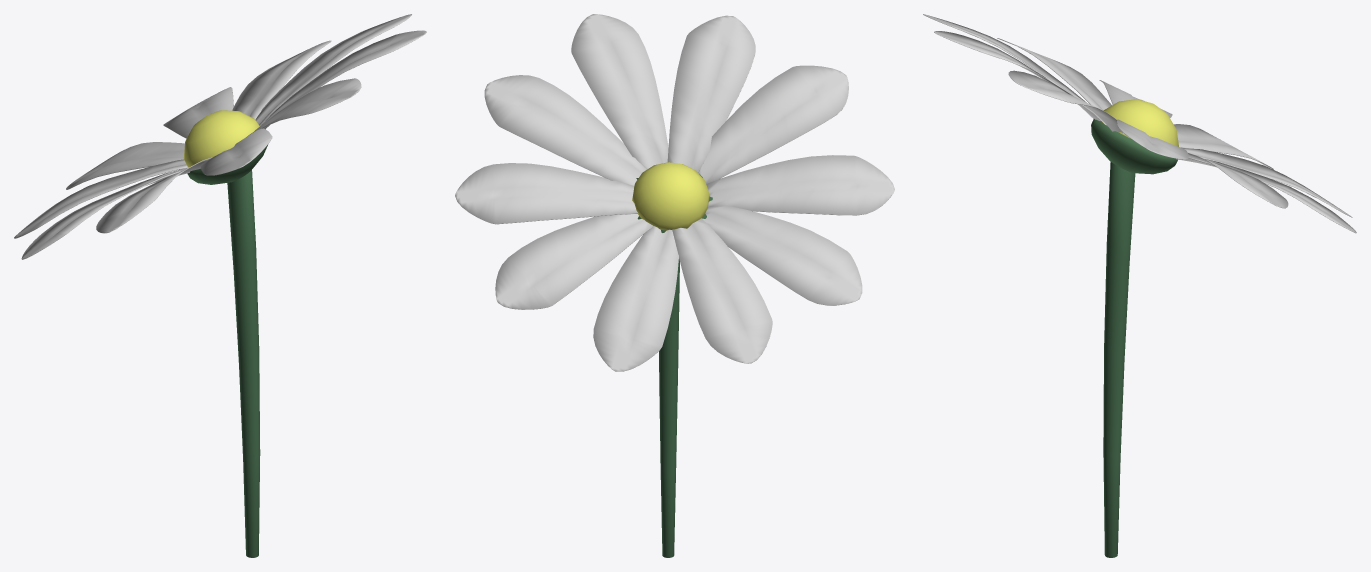
The model's file is marguerite.blanche.fbx.
The picture shows the model from 3 angles, left to right: view 1: azimuth 30°, elevation 25°; view 2: azimuth 150°, elevation 25°; view 3: azimuth 270°, elevation 25°; orthographic projection. The views are drawn at different scales.
Parts seen in each view (by area): view 1: Stengel 01, Sphere03, Line27, Line30, Line29, Line21, Line22, Line23, Line26, Line24, Line25, Line28 (+1 smaller); view 2: Line22, Line24, Line26, Line25, Line27, Line21, Line23, Line30, Line29, Line28, Stengel 01, Sphere03; view 3: Stengel 01, Cylinder05, Sphere03, Line29, Line22, Line24, Line30, Line28, Line21, Line25, Line26, Line27.
Part boxes in pixels (box(x1,y1,x2,y2)): Stengel 01: box(227, 170, 260, 557); Sphere03: box(183, 110, 259, 167); Line27: box(255, 14, 411, 126); Line30: box(14, 159, 188, 238); Line29: box(66, 142, 184, 189); Line21: box(232, 40, 331, 119); Line22: box(262, 30, 426, 128); Line23: box(21, 168, 189, 259); Line26: box(247, 78, 361, 136); Line24: box(96, 157, 212, 233); Line25: box(201, 128, 272, 175); Line28: box(163, 87, 233, 138); Line22: box(571, 14, 668, 169); Line24: box(706, 155, 894, 215); Line26: box(667, 15, 755, 172); Line25: box(698, 65, 848, 183); Line27: box(484, 75, 646, 185); Line21: box(455, 163, 638, 224); Line23: box(702, 205, 862, 305); Line30: box(672, 218, 772, 363); Line29: box(593, 226, 678, 371); Line28: box(495, 214, 653, 309); Stengel 01: box(659, 258, 679, 557); Sphere03: box(632, 162, 709, 230); Stengel 01: box(1103, 162, 1135, 557); Cylinder05: box(1091, 119, 1177, 174); Sphere03: box(1100, 99, 1178, 146); Line29: box(1182, 148, 1352, 217); Line22: box(1008, 70, 1127, 136); Line24: box(997, 38, 1111, 110); Line30: box(1173, 124, 1273, 169); Line28: box(1176, 157, 1356, 233); Line21: box(1188, 153, 1288, 208); Line25: box(923, 14, 1093, 118); Line26: box(934, 31, 1100, 120); Line27: box(1117, 119, 1188, 159).
Size of the model in its own units: 89.53 by 113 by 82.88.
